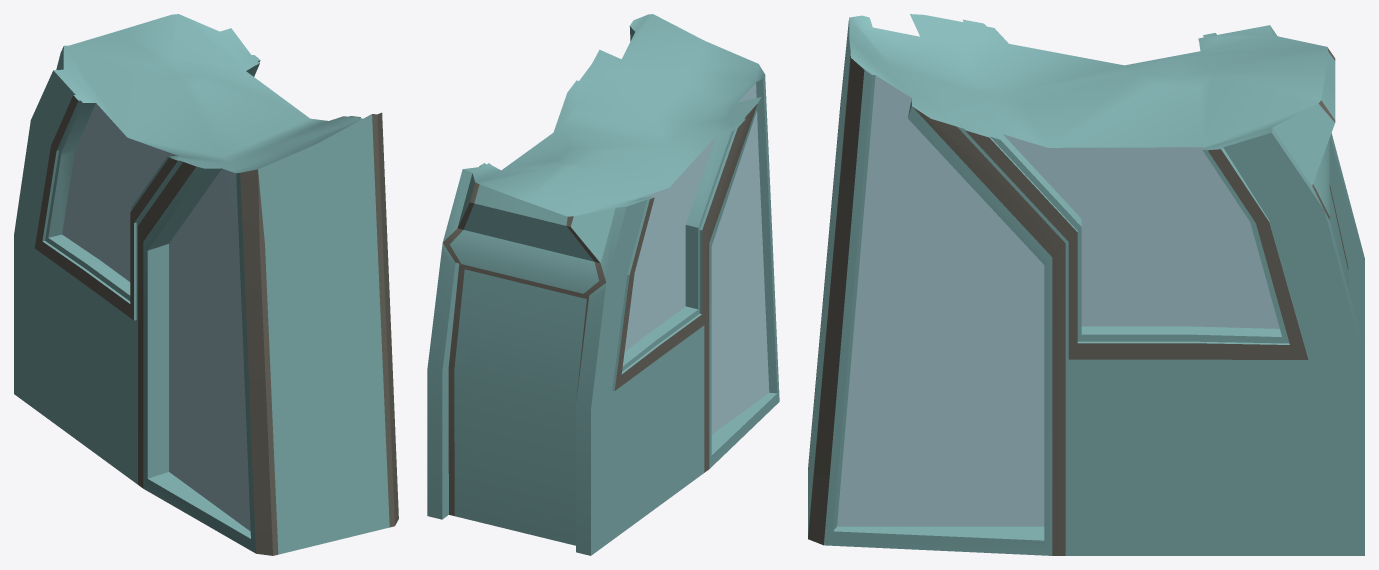
3 views of the same model, side by side, from view 1: azimuth 30°, elevation 25°; view 2: azimuth 150°, elevation 25°; view 3: azimuth 270°, elevation 25° (orthographic). The views are drawn at different scales.
Visible parts, largest first — view 1: Cube.002; view 2: Cube.002; view 3: Cube.002.
Part boxes in pixels (x1,y1,x2,y2): Cube.002: [14, 14, 398, 555]; Cube.002: [427, 14, 779, 555]; Cube.002: [808, 14, 1364, 555].
Bounding box in the file's own units: 469 × 976 × 1018.
